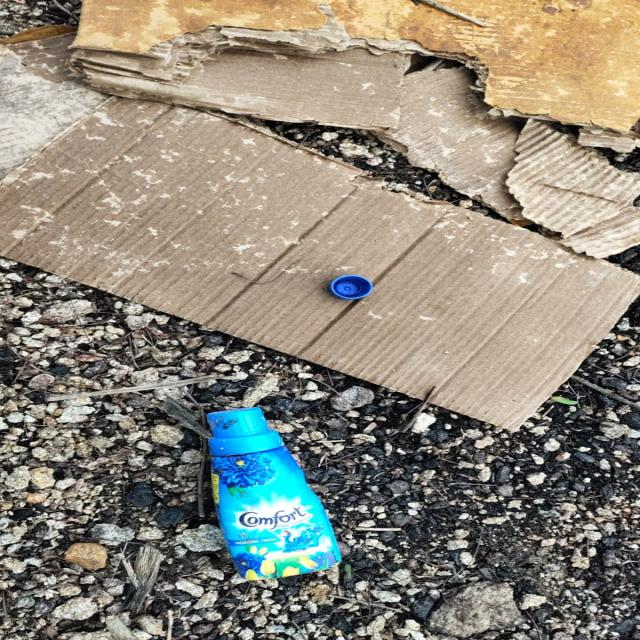paper: (59, 83, 471, 237)
plastic: (130, 410, 394, 620), (323, 260, 382, 308)
